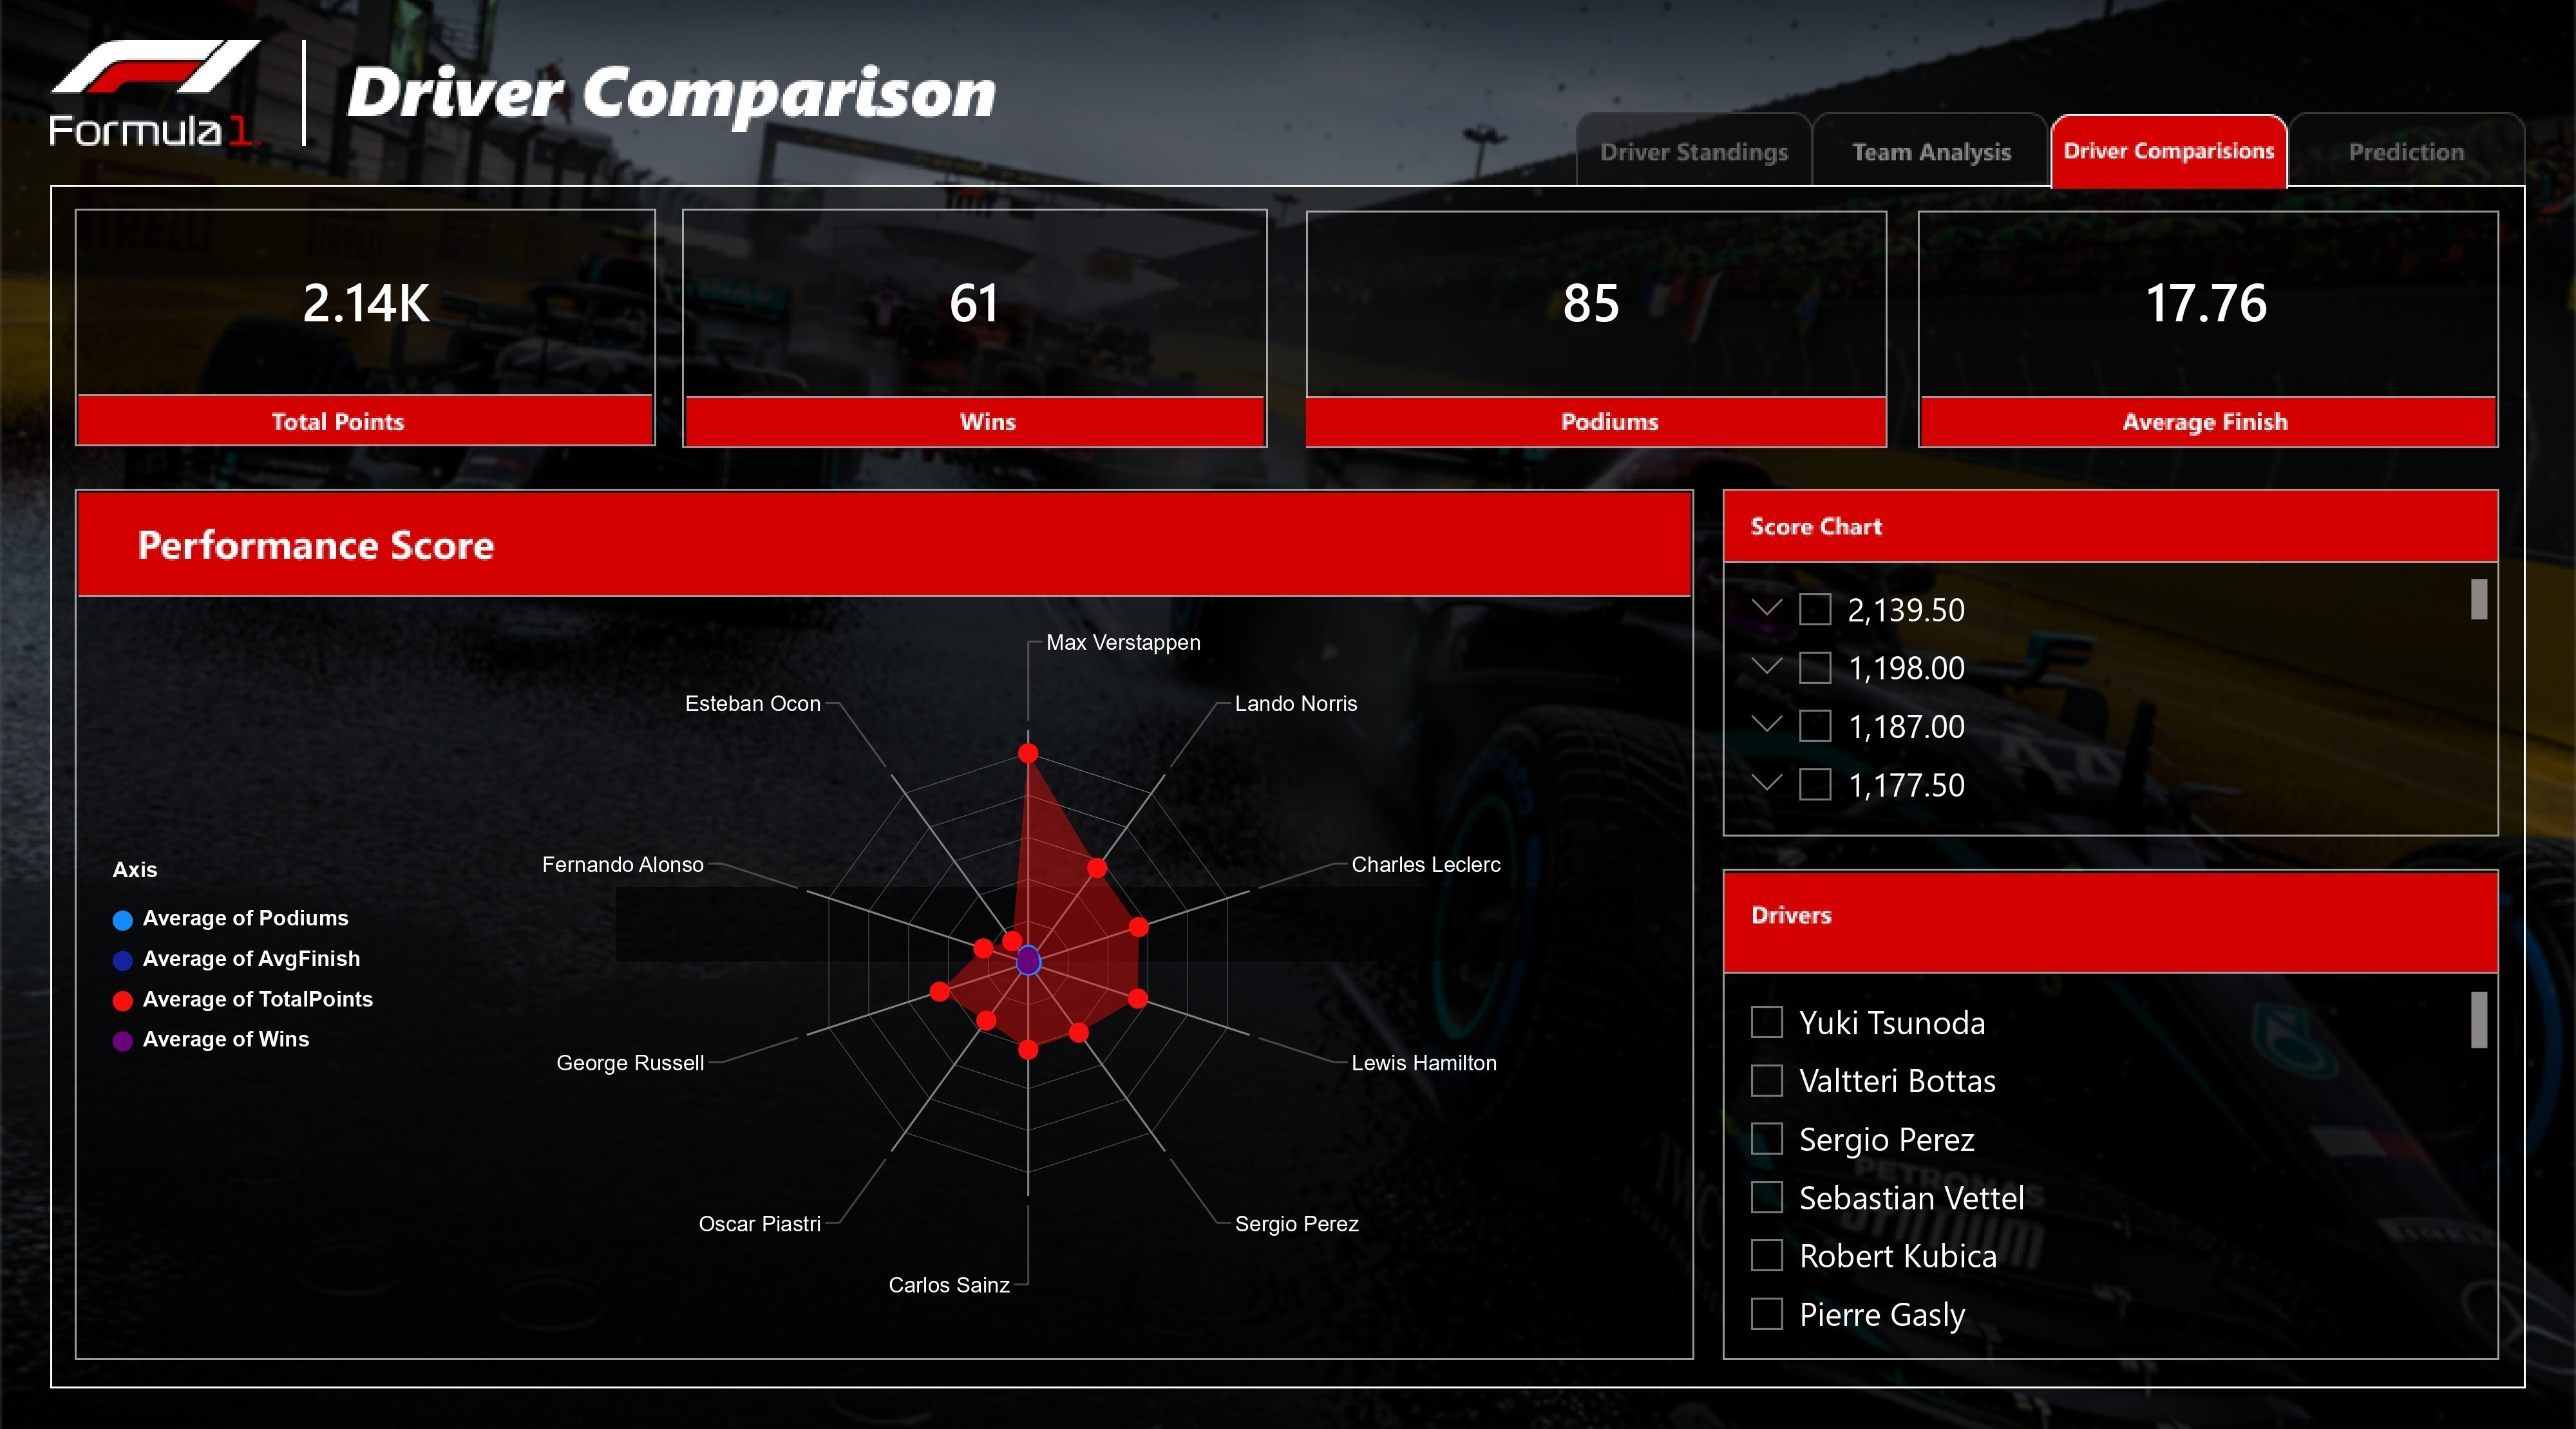

This screenshot's page, from the dashboard's own definition file:
{"tool":"powerbi","page":{"name":"Driver Comparison","canvas":[1280,720],"ordinal":2},"visuals":[{"type":"slicer","fields":{"Values":["driver_stats.TotalPoints","driver_stats.Wins","driver_stats.Podiums","driver_stats.AvgFinish"]},"box":[857.1,285.7,384.3,128.6],"z":0},{"type":"cardVisual","fields":{"Data":["Max(driver_stats.TotalPoints)"]},"box":[40,105.7,284.3,90],"z":1000},{"type":"cardVisual","fields":{"Data":["Max(driver_stats.AvgFinish)"]},"box":[952.9,105.7,288.6,90],"z":2000},{"type":"cardVisual","fields":{"Data":["Max(driver_stats.Podiums)"]},"box":[640,105.7,302.9,90],"z":3000},{"type":"cardVisual","fields":{"Data":["Max(driver_stats.Wins)"]},"box":[338.6,105.7,290,90],"z":4000},{"type":"slicer","fields":{"Values":["driver_stats.Driver"]},"box":[857.1,491.4,384.3,182.9],"z":5000},{"type":"RadarChart1446119667547","title":"Driver Performance Score","fields":{"Category":["driver_stats.Driver"],"Y":["Avg(driver_stats.Podiums)","Avg(driver_stats.AvgFinish)","Avg(driver_stats.TotalPoints)","Avg(driver_stats.Wins)"]},"box":[45.7,305.7,792.9,351.4],"z":6000}]}

Visuals, with their boxes in screenshot pixels (x1, y1, x2, y2), scaled from the page's 1280x720 canvas onto the 2576x1429 screenshot:
slicer - driver_stats.TotalPoints x driver_stats.Wins: box(1725, 567, 2498, 822)
cardVisual - Max(driver_stats.TotalPoints): box(80, 210, 652, 388)
cardVisual - Max(driver_stats.AvgFinish): box(1918, 210, 2499, 388)
cardVisual - Max(driver_stats.Podiums): box(1288, 210, 1898, 388)
cardVisual - Max(driver_stats.Wins): box(681, 210, 1265, 388)
slicer - driver_stats.Driver: box(1725, 975, 2498, 1338)
"Driver Performance Score" RadarChart1446119667547: box(92, 607, 1688, 1304)
